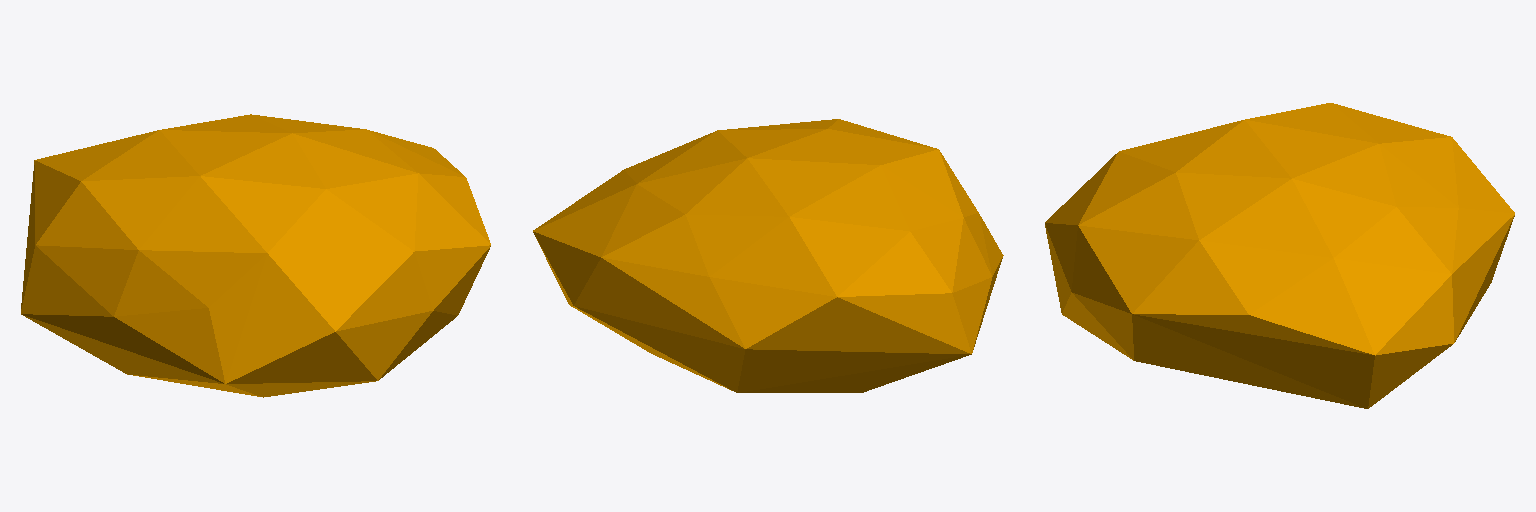
robot.urdf — ic1550:
<?xml version="1.0"?>
<robot name="ic1550">
  <link name="link">
    <contact>
      <lateral_friction value="0.6"/>
    </contact>
    <inertial>
      <mass value = "0.21744668846905044"/>
      <inertia ixx="7.110294475029541e-05" ixy="-4.242203310884827e-21" ixz="4.2177594775490316e-22" iyy="7.296275100146846e-05" iyz="-7.791352053072393e-21" izz="0.00011668074447121436" />
    </inertial>
    <visual name="visual">
      <geometry>
        <mesh filename="ic1550.obj"/>
      </geometry>
    </visual>
    <collision name="collision">
      <geometry>
        <mesh filename="ic1550.obj"/>
      </geometry>
    </collision>
  </link>
</robot>

--- Render facts (derived) ---
3 views of the same robot in one strip: view 1: azimuth 30°, elevation 25°; view 2: azimuth 150°, elevation 25°; view 3: azimuth 270°, elevation 25° (orthographic).
Model ic1550 with 1 links and 0 joints (none), rooted at link, posed every joint at zero.
Links seen in each view (by area): view 1: link; view 2: link; view 3: link.
Link boxes in pixels (bbox=[...]): link: bbox=[21, 114, 490, 397]; link: bbox=[533, 119, 1003, 392]; link: bbox=[1045, 103, 1514, 408].
Size in the robot's own frame: 0.0804 by 0.0764 by 0.0381 metres.
1 mesh visuals loaded from 1 distinct referenced files (1 OBJ).
